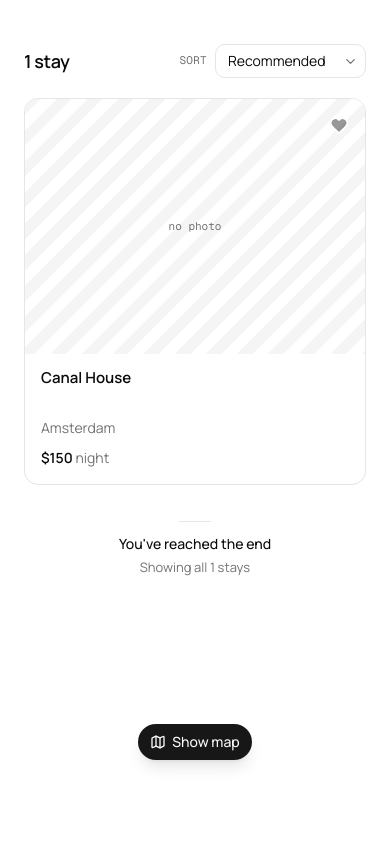
mobile map list sheet › carries the result count and the list itself over the map
Click the button "Show map".
click(195, 742)  # box [138, 724, 252, 760]
(page scrolled)
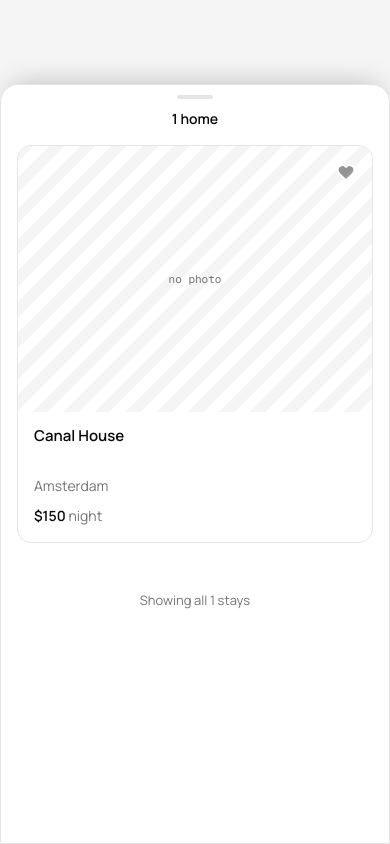
Result: the button with aria-label "Expand list" reads "1 home" at [1, 85, 389, 141]
Result: the text "Canal House" is shown at [34, 426, 124, 446]
